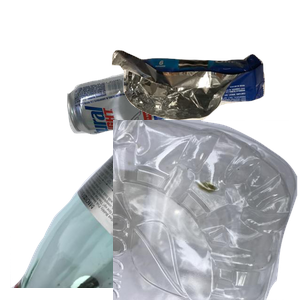glass: (10, 120, 224, 300)
metal: (65, 65, 231, 192)
plastic: (113, 120, 300, 300)
trash: (109, 47, 300, 160)
